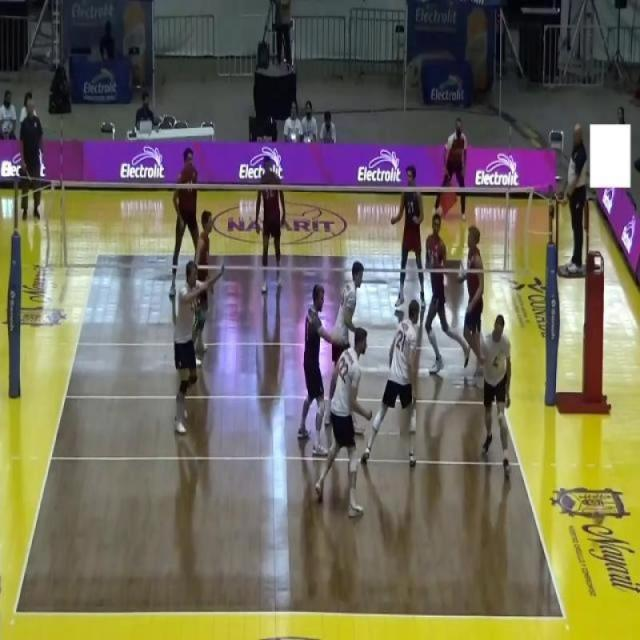volleyball: (592, 506, 605, 526)
